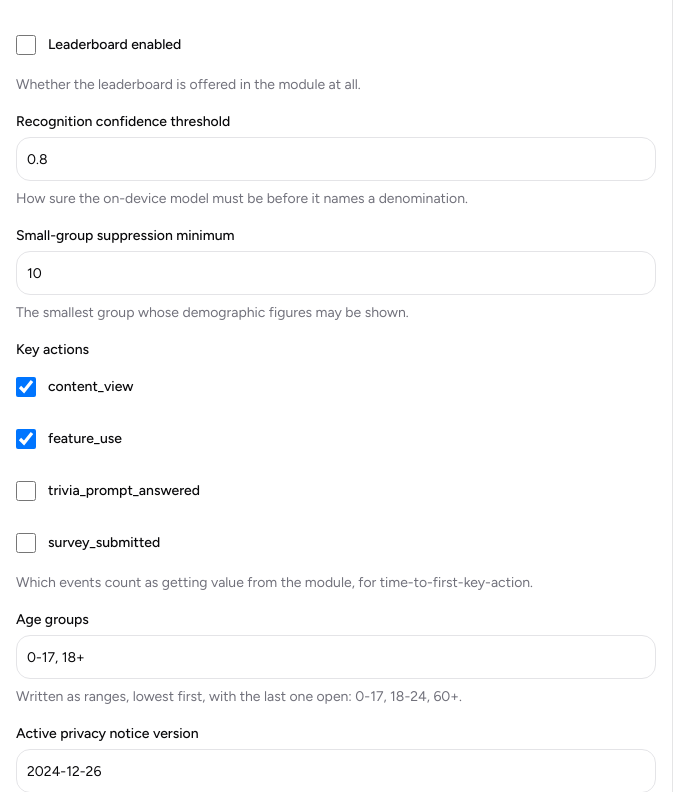
Test: ModuleConfigurationView › refuses to save with no key action at all
The width and height of the screenshot is (690, 792).
(page scrolled)
Click the checkbox labelled "content_view".
click(26, 387)  # box [16, 377, 36, 397]
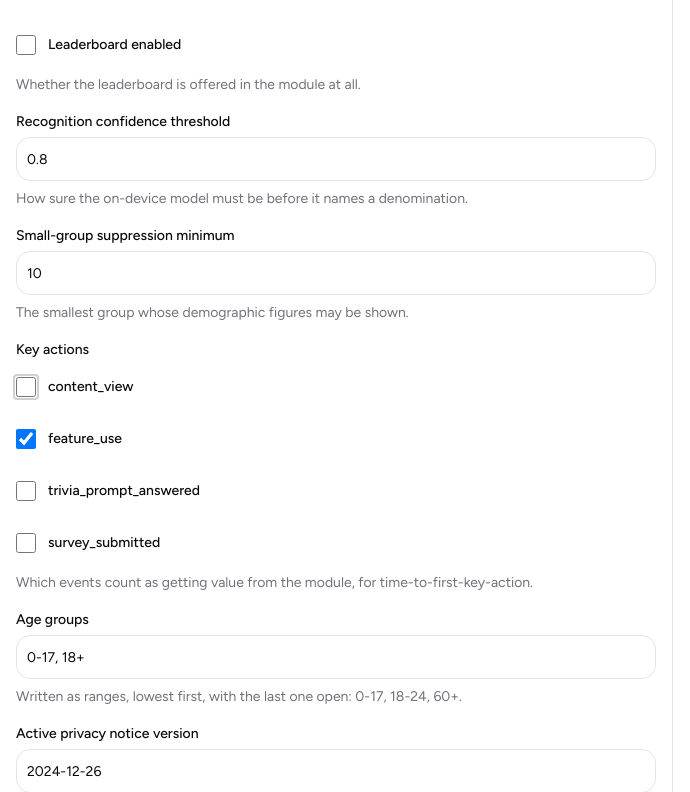
Click the checkbox labelled "feature_use".
click(26, 439)  # box [16, 429, 36, 449]
(page scrolled)
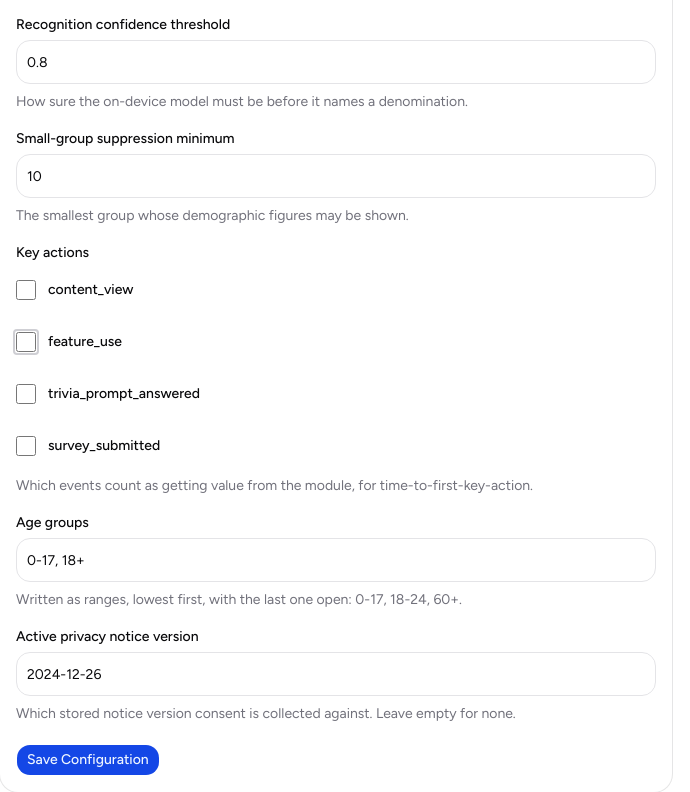
Click the button "Save Configuration".
click(88, 760)  # box [16, 744, 160, 776]
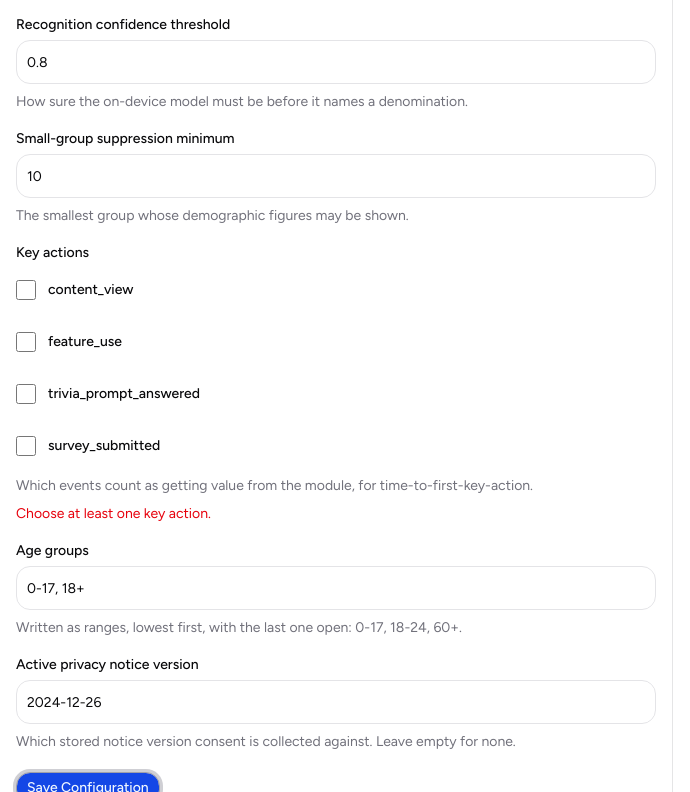
Expected: the text "Choose at least one key action." is shown, [16, 505, 211, 522]
